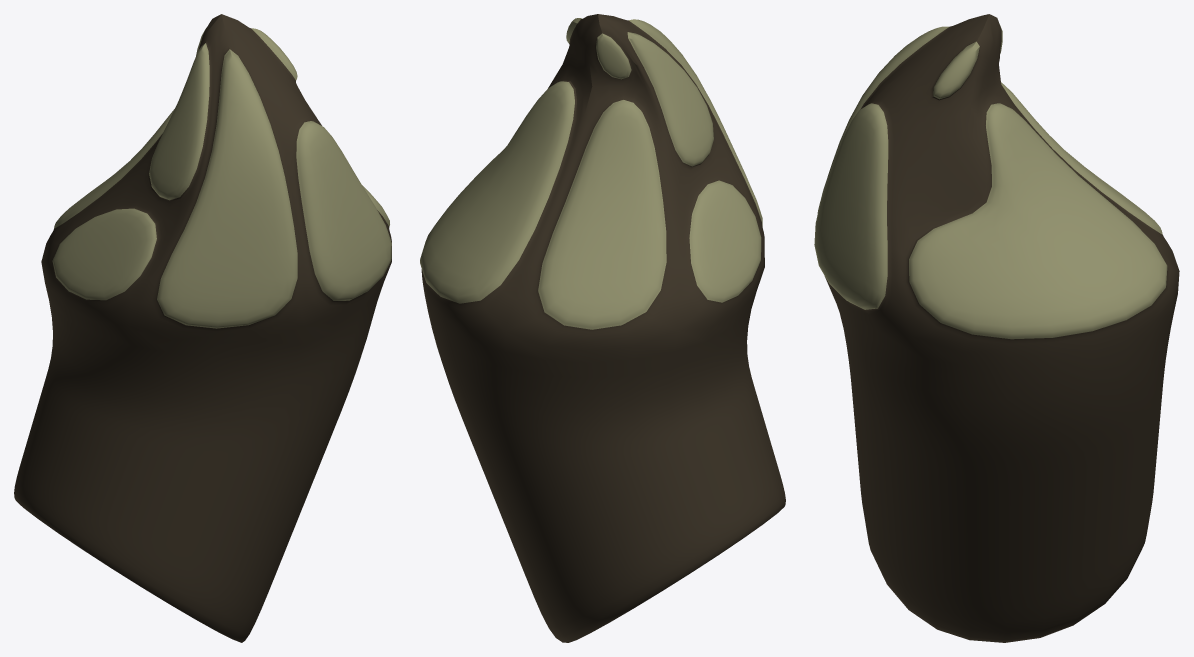
File: Percebe.fbx
3 renders of one model, left to right at view 1: azimuth 30°, elevation 25°; view 2: azimuth 150°, elevation 25°; view 3: azimuth 270°, elevation 25°, orthographic. The views are drawn at different scales.
Parts seen in each view (by area): view 1: Sphere; view 2: Sphere; view 3: Sphere.
Boxes of the visible parts, x1,y1,x2,y2 form: Sphere: [14, 14, 391, 642]; Sphere: [420, 14, 785, 642]; Sphere: [814, 14, 1179, 642].
Size of the model in its own units: 174 by 314 by 166.
